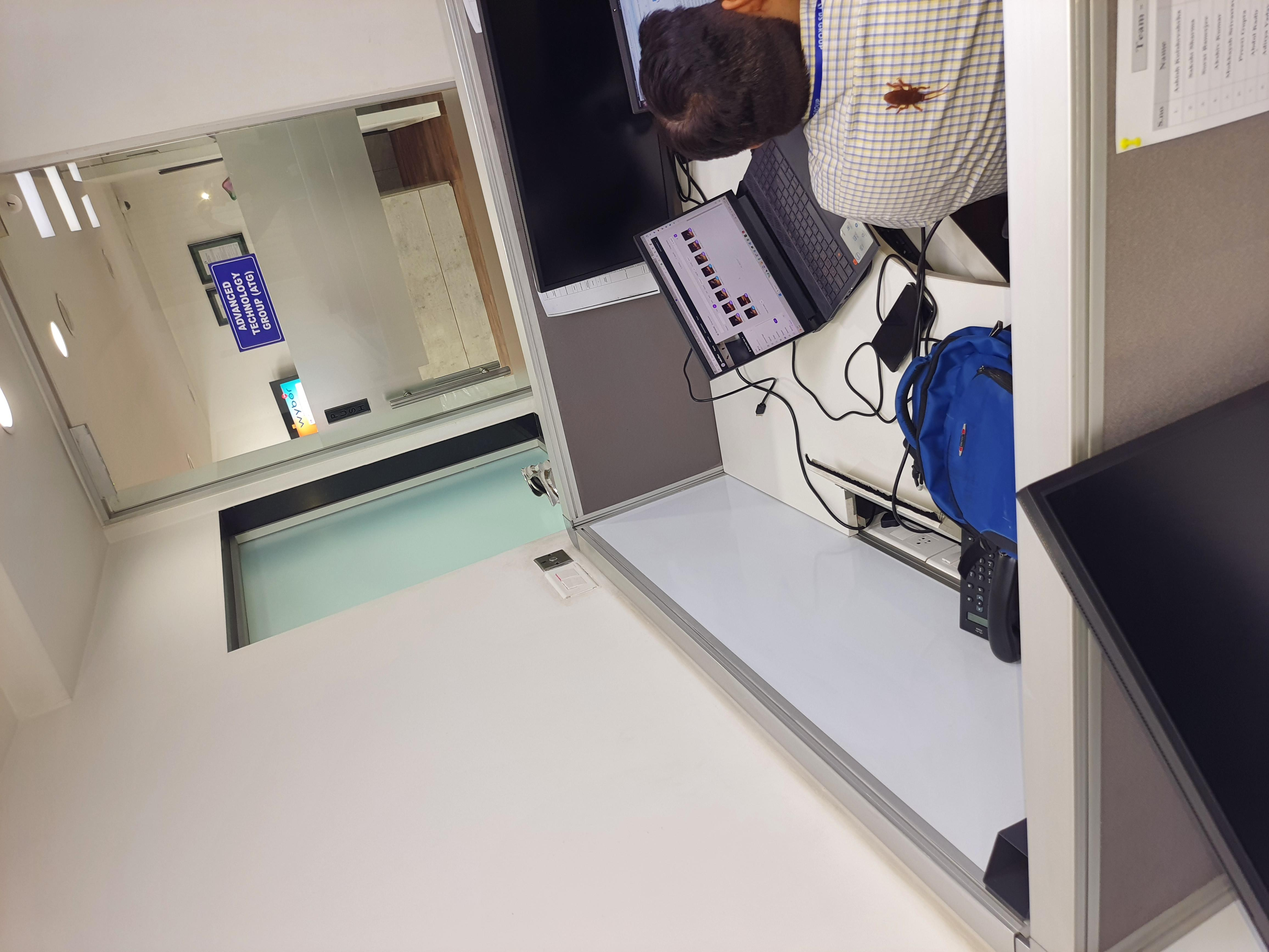cockroach: (1095, 645, 1183, 723)
